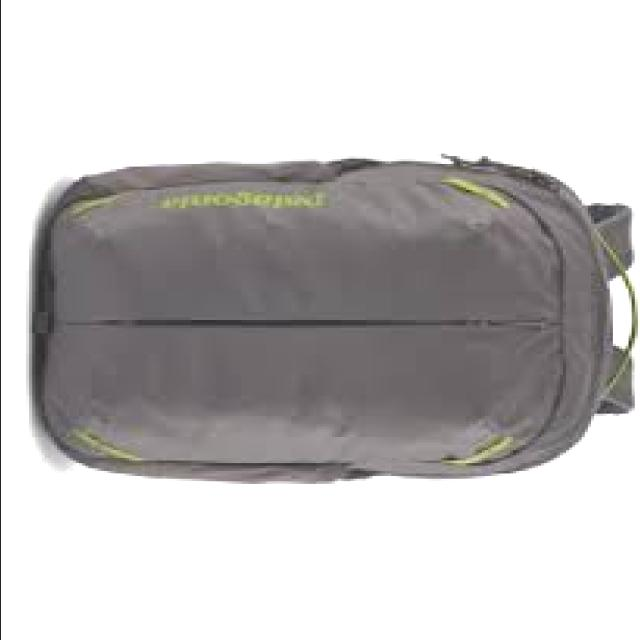backpack: (35, 152, 640, 485)
